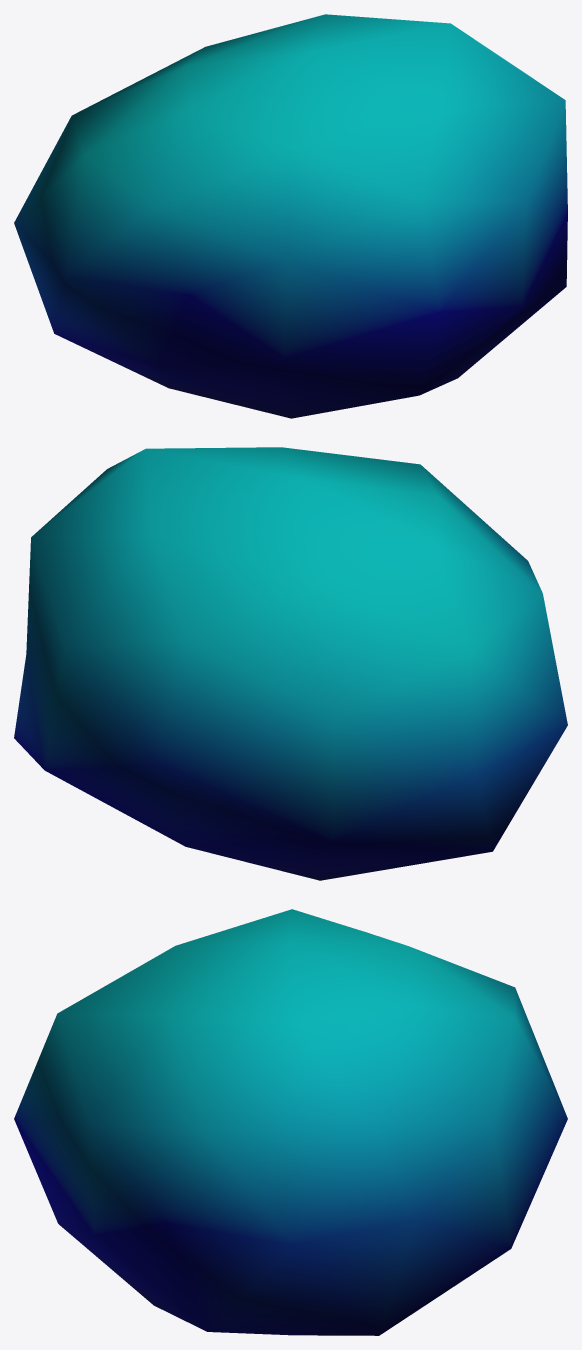
Rendered from RockAngular_2_lod2.glb.
3 renders of one model, top to bottom at view 1: azimuth 30°, elevation 25°; view 2: azimuth 150°, elevation 25°; view 3: azimuth 270°, elevation 25°, orthographic. The views are drawn at different scales.
Parts seen in each view (by area): view 1: RockAngular_2_lod2; view 2: RockAngular_2_lod2; view 3: RockAngular_2_lod2.
Part boxes in pixels (x1,y1,x2,y2): RockAngular_2_lod2: (14,14,567,418); RockAngular_2_lod2: (14,447,567,880); RockAngular_2_lod2: (14,909,567,1335).
Size of the model in its own units: 2.17 by 1.34 by 2.
